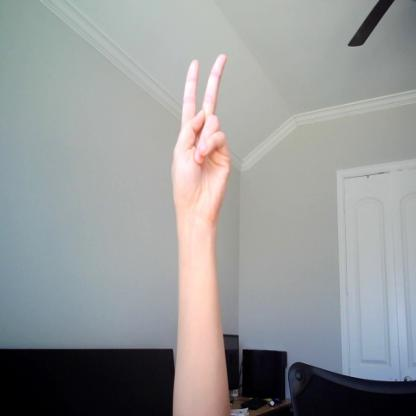K: (168, 50, 233, 224)
